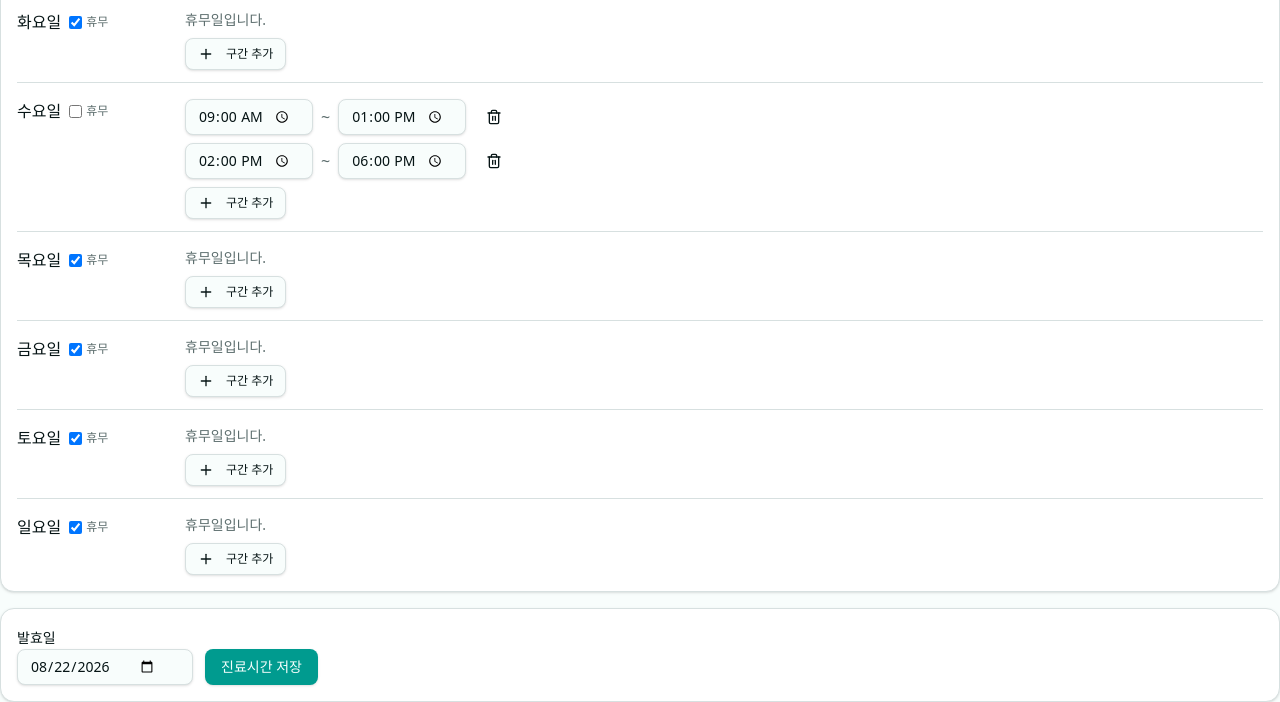
Scenario: StaffOperatingHoursPage › 현재 시간표에서 이미 예정된 발효일을 입력해 덮어쓰지 못한다
The width and height of the screenshot is (1280, 702).
(page scrolled)
Type "2026-08-25" into the date field labelled "발효일" at (105, 667), box [17, 649, 193, 685]
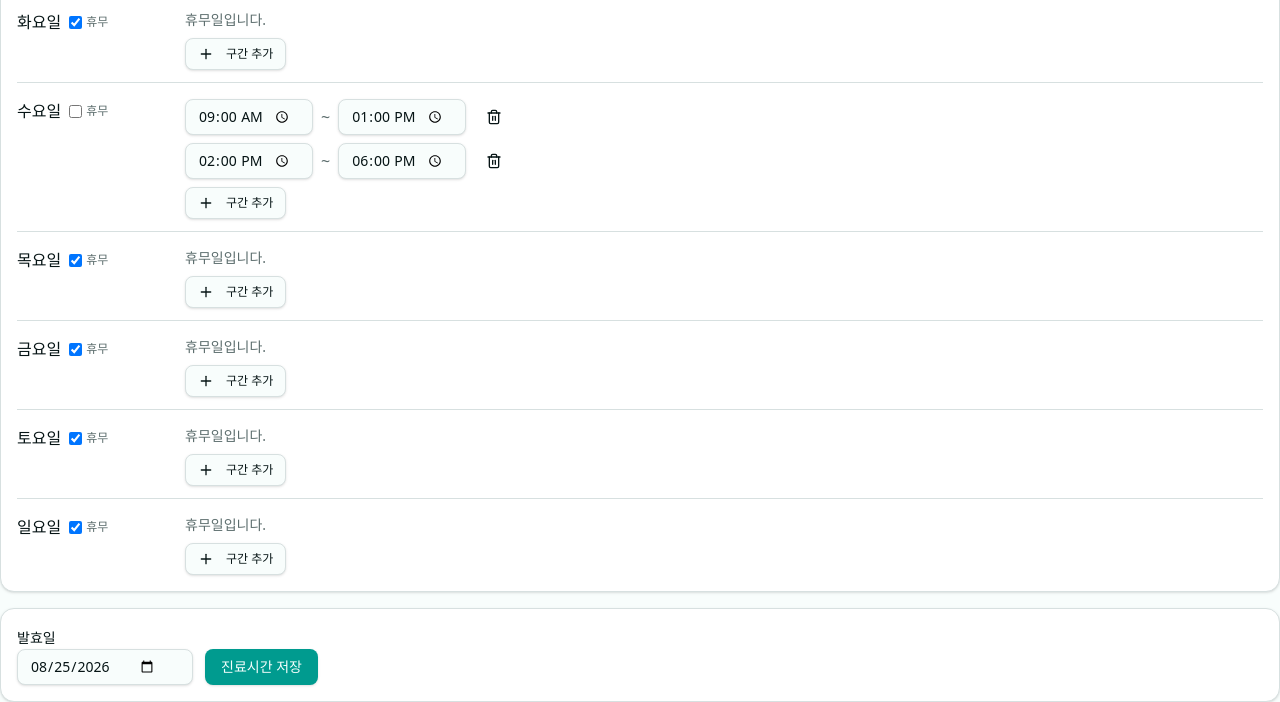
Click the button "진료시간 저장" at (261, 667), box [205, 649, 318, 685]
(page scrolled)
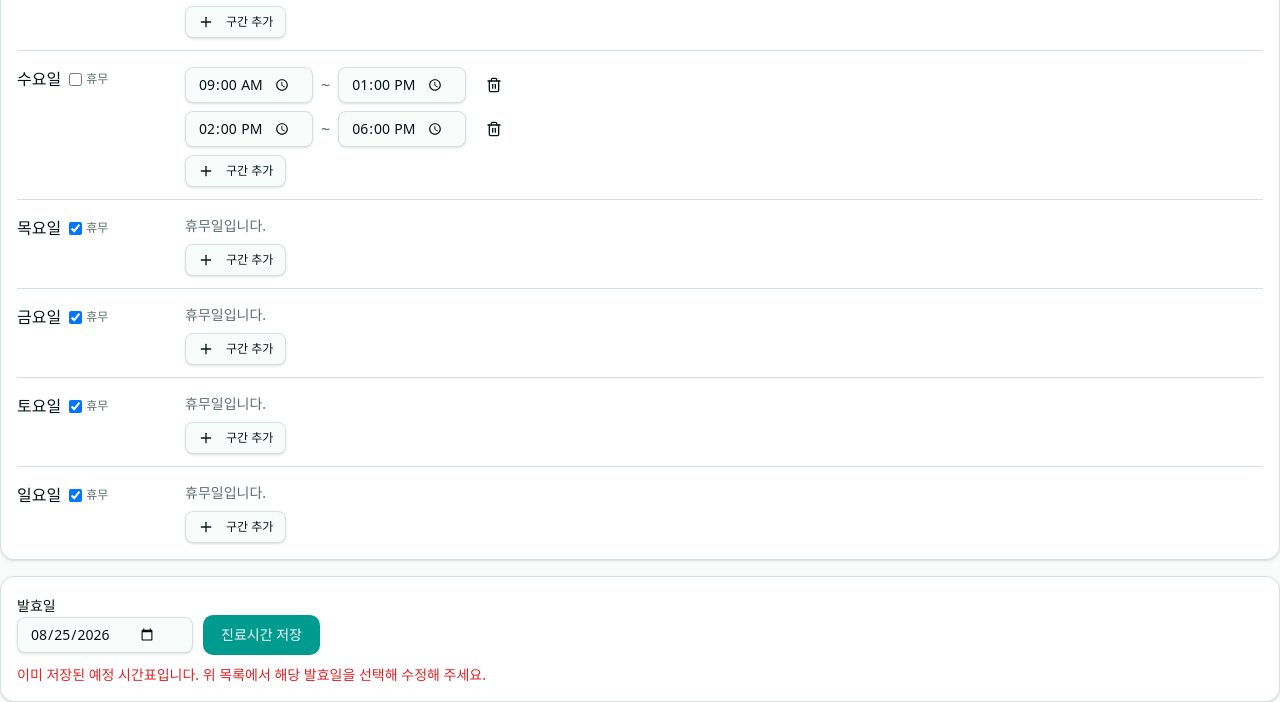
expect the list item "이미 저장된 예정 시간표입니다. 위 목록에서 해당 발효일을 선택해 수정해 주세요." is shown: met, box [17, 665, 486, 684]
